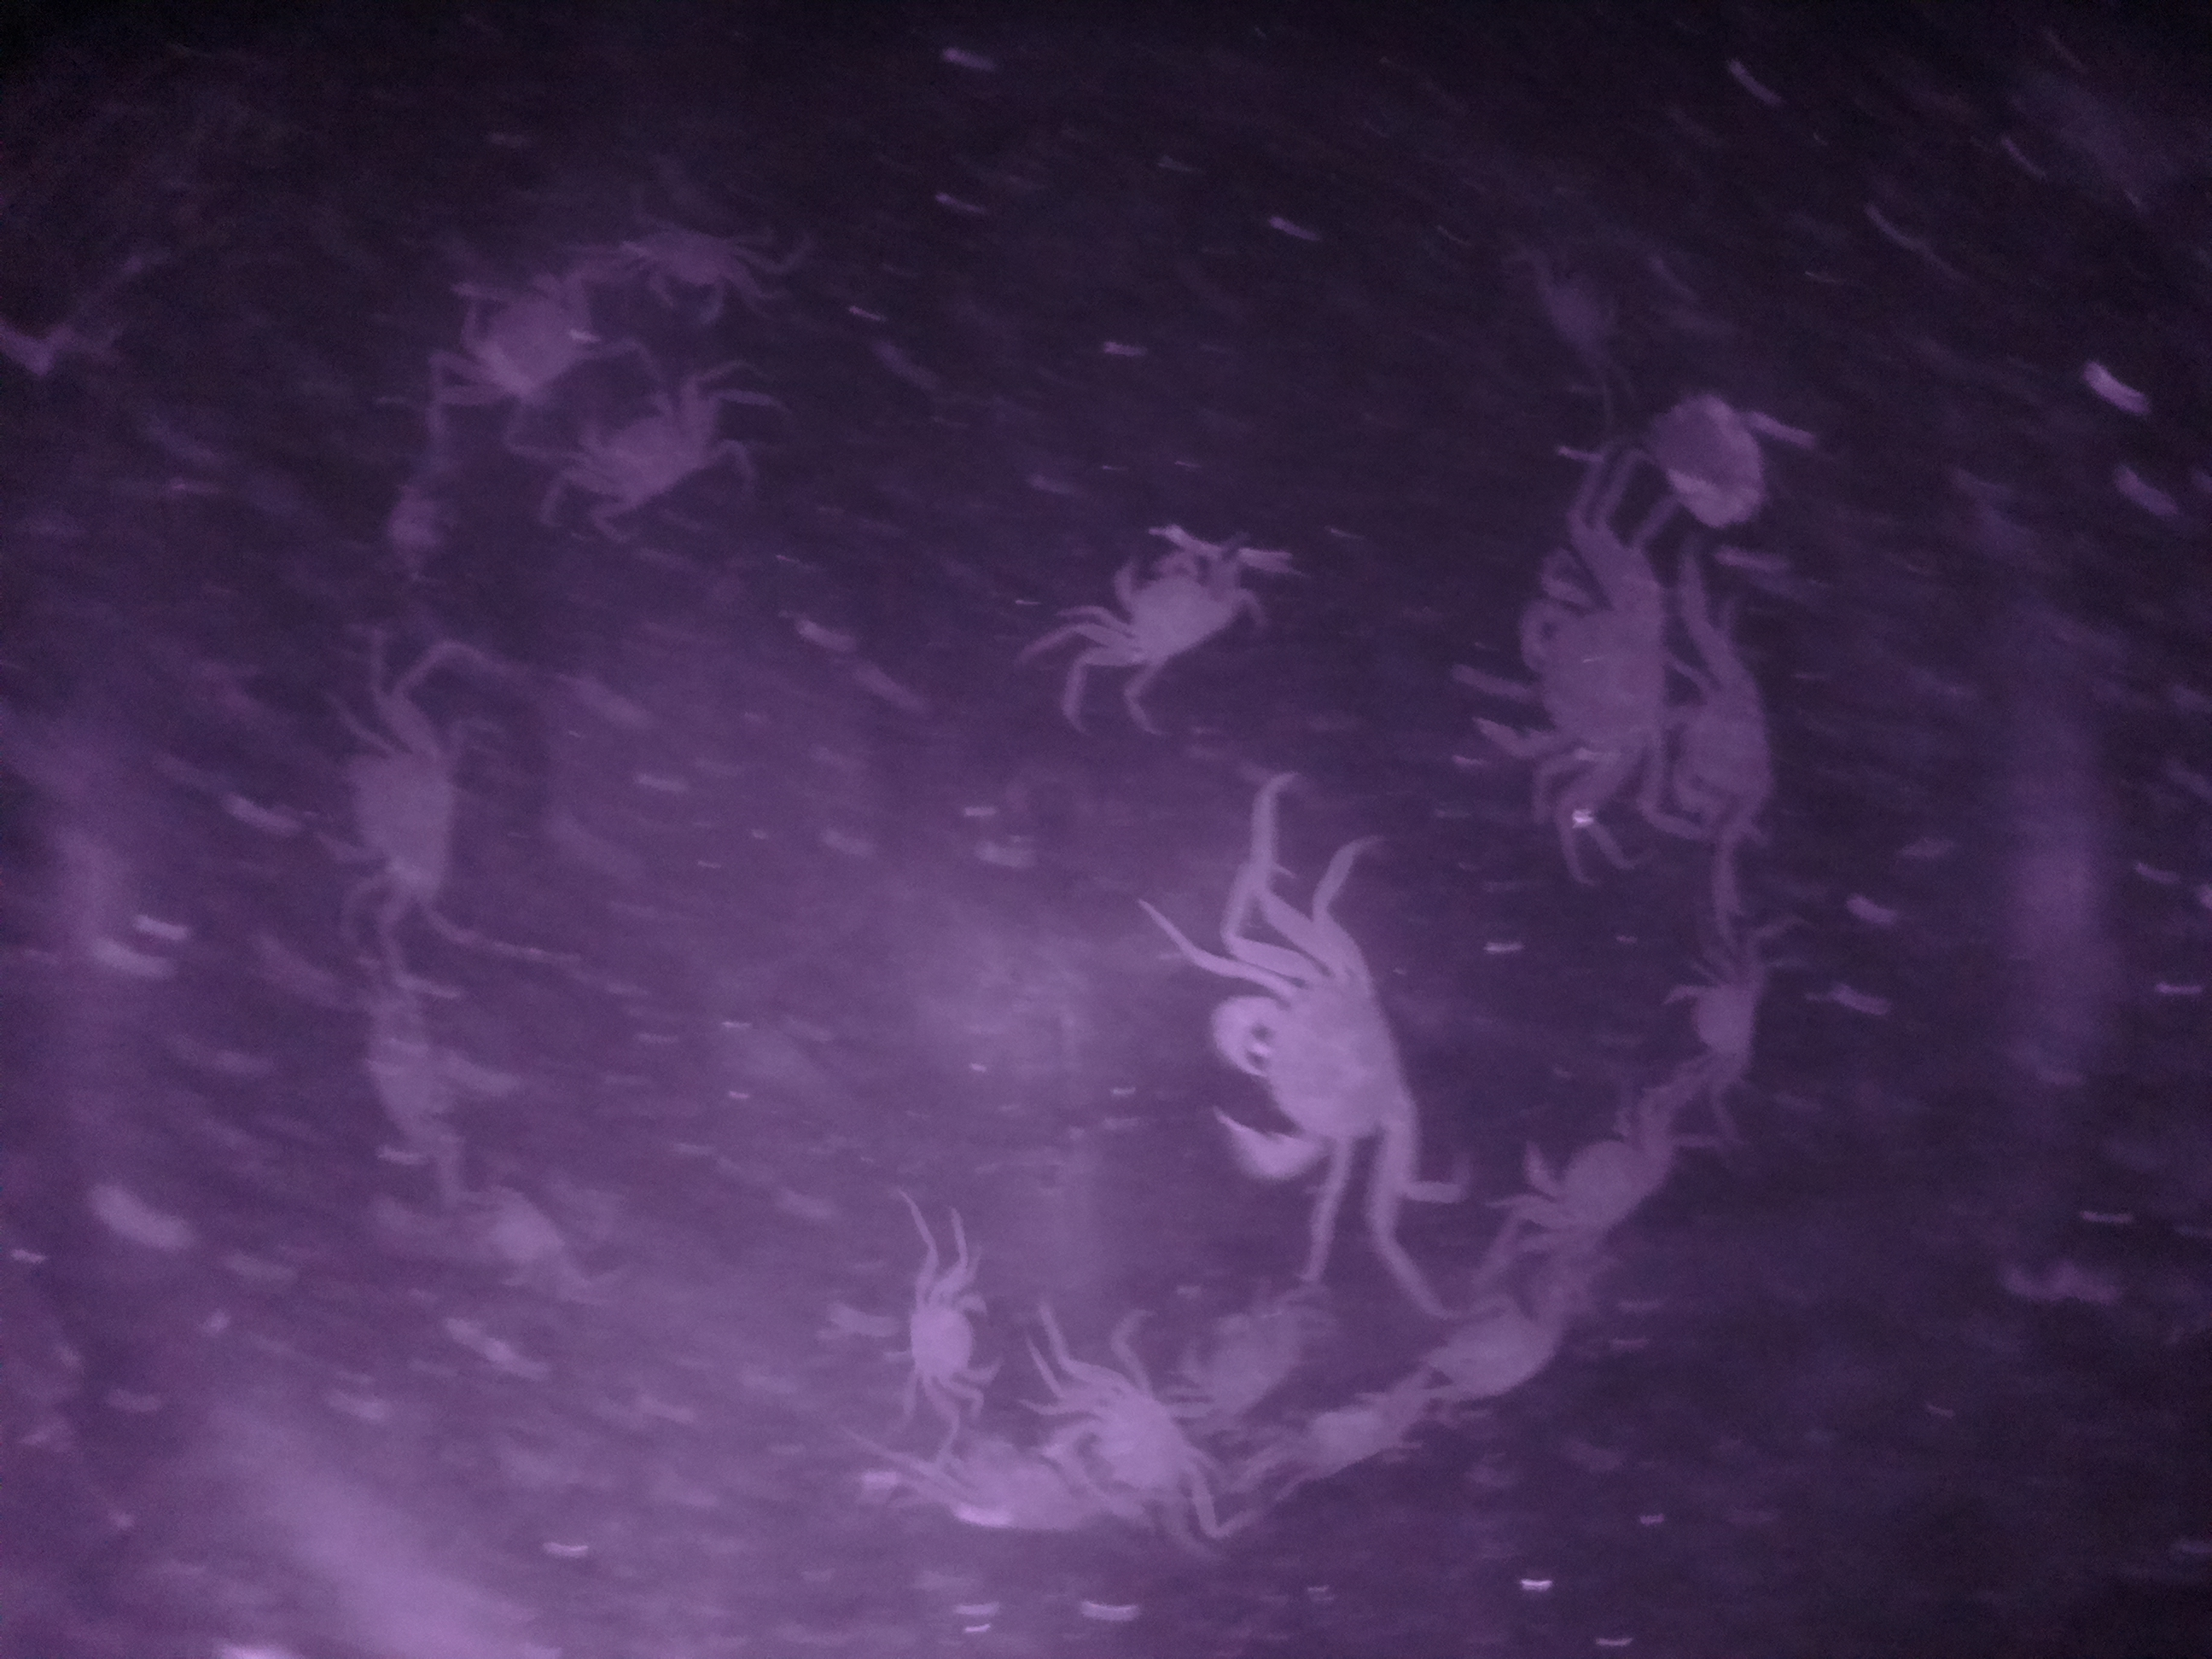Crab: (1197, 936, 1425, 1195), (1456, 563, 1679, 795), (327, 685, 469, 917), (1501, 1101, 1710, 1251), (1658, 643, 1803, 835), (575, 373, 721, 523), (1172, 1297, 1312, 1445), (1101, 537, 1233, 676), (618, 206, 772, 326), (887, 1272, 1008, 1401)
